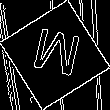M_S: (27, 25, 83, 85)
